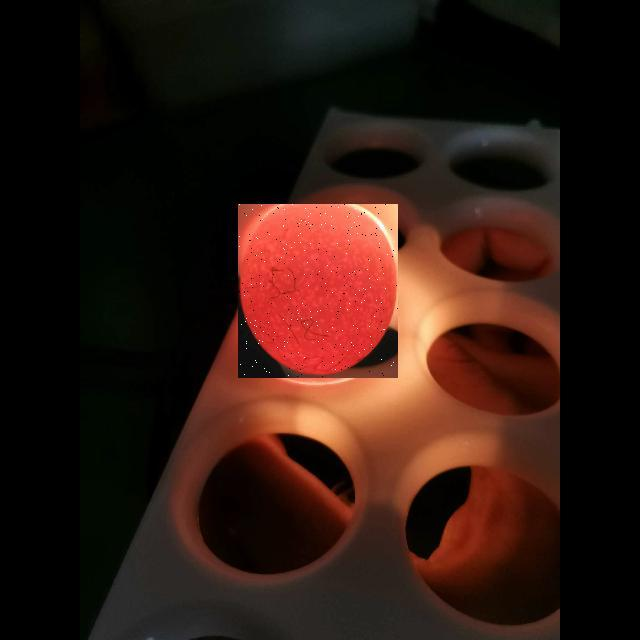Infertile: (238, 204, 398, 378)
